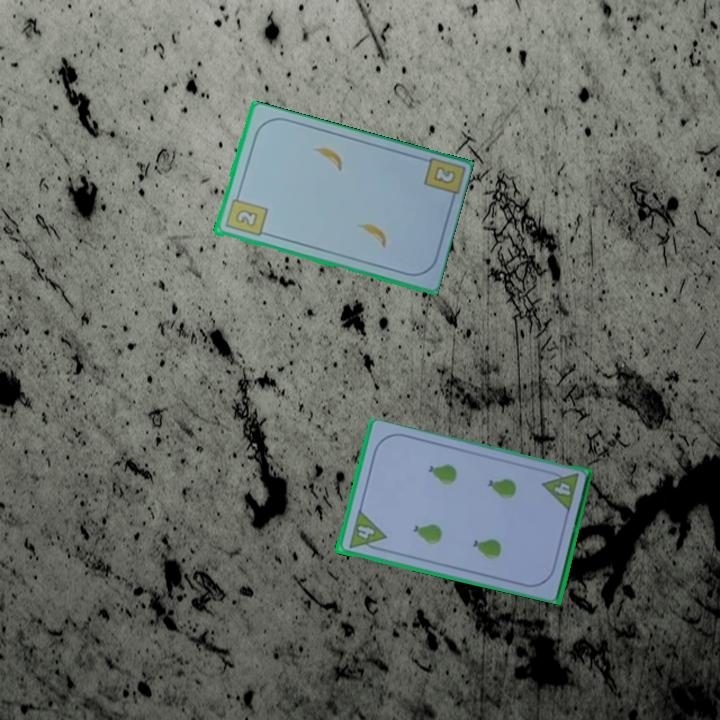2b: (221, 190, 270, 239), (430, 163, 458, 187)
4p: (344, 508, 388, 555), (538, 467, 581, 514)
